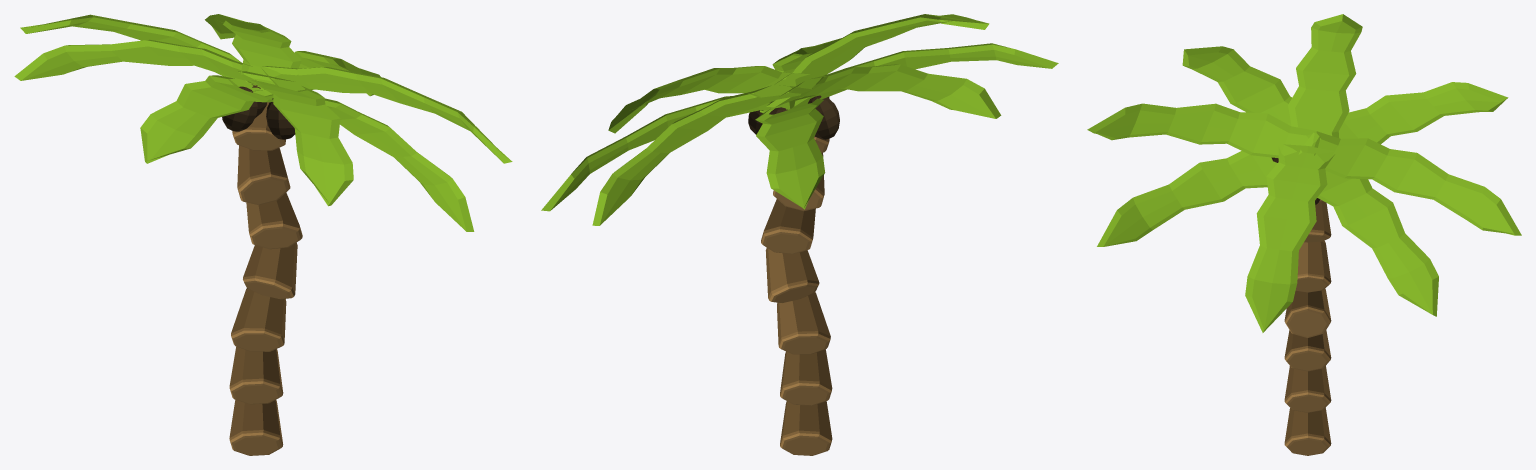
Rendered from Palm-tree.glb.
3 renders of one model, left to right at view 1: azimuth 30°, elevation 25°; view 2: azimuth 150°, elevation 25°; view 3: azimuth 270°, elevation 25°, orthographic. The views are drawn at different scales.
Visible parts, largest first — view 1: Circle; view 2: Circle; view 3: Circle.
Part boxes in pixels (x1,y1,x2,y2): Circle: [14, 14, 512, 455]; Circle: [541, 14, 1058, 455]; Circle: [1087, 14, 1521, 455].
Bounding box in the file's own units: 18.19 × 16.27 × 18.11.
Materials: 1 (1 with a texture image).
